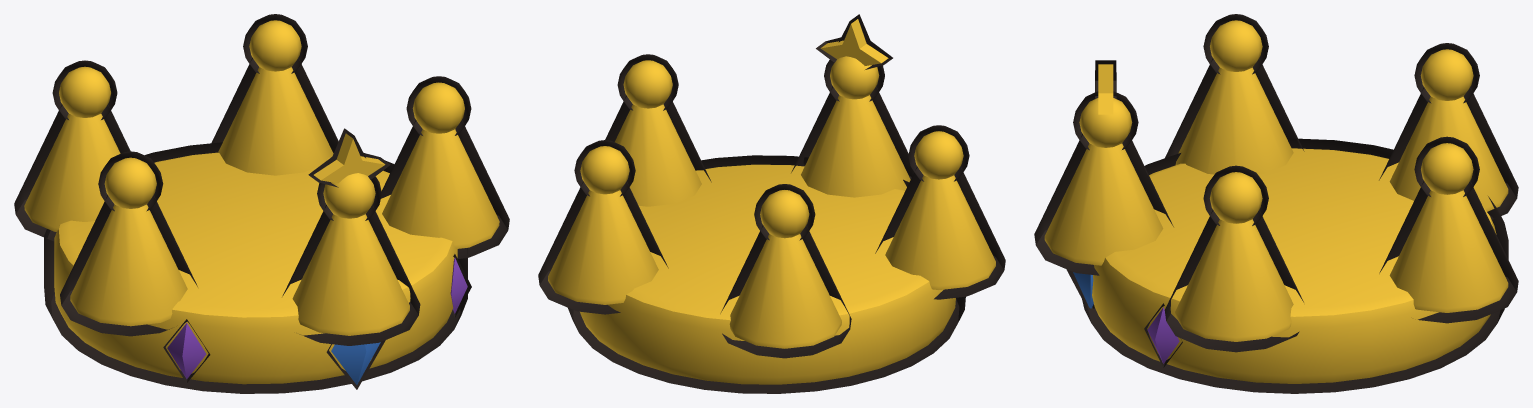
The model's file is hat_crown2.fbx.
3 views of the same model, side by side, from view 1: azimuth 30°, elevation 25°; view 2: azimuth 150°, elevation 25°; view 3: azimuth 270°, elevation 25° (orthographic). The views are drawn at different scales.
Visible parts, largest first — view 1: hat_crown2_C_F7C531, hat_crown2_Outline, hat_crown2_C_8E4FC9, hat_crown2_C_3E7FD9; view 2: hat_crown2_C_F7C531, hat_crown2_Outline; view 3: hat_crown2_C_F7C531, hat_crown2_Outline, hat_crown2_C_8E4FC9.
Boxes of the visible parts, box(x1,y1,x2,y2) form: hat_crown2_C_F7C531: box(24, 20, 499, 384); hat_crown2_Outline: box(14, 14, 509, 393); hat_crown2_C_8E4FC9: box(167, 258, 467, 379); hat_crown2_C_3E7FD9: box(331, 342, 380, 384); hat_crown2_C_F7C531: box(548, 19, 995, 384); hat_crown2_Outline: box(538, 14, 1005, 393); hat_crown2_C_F7C531: box(1044, 20, 1508, 383); hat_crown2_Outline: box(1034, 14, 1518, 393); hat_crown2_C_8E4FC9: box(1147, 307, 1179, 363).
Size of the model in its own units: 0.665 by 0.3729 by 0.6417.
